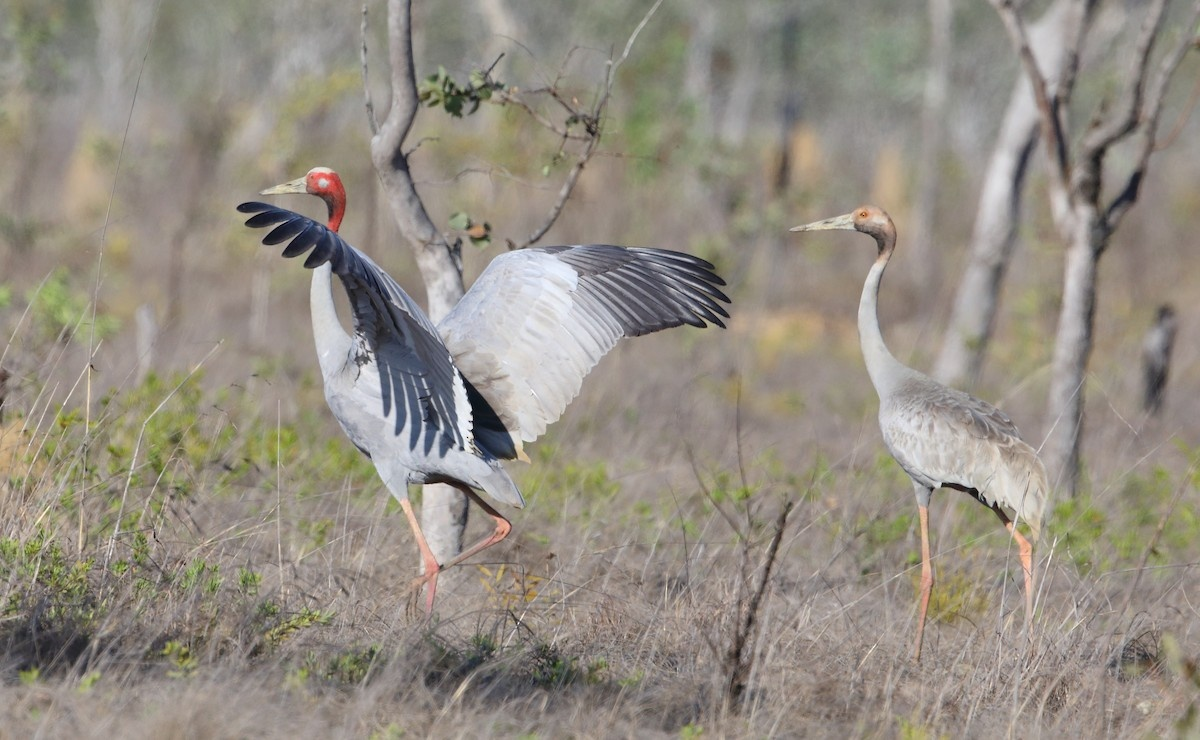crane: (233, 161, 753, 615), (783, 188, 1061, 668)
